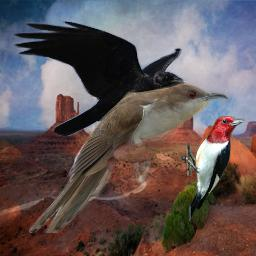Crow: (12, 19, 189, 136)
Cuckoo: (29, 83, 229, 233)
Woodpecker: (179, 116, 246, 222)
